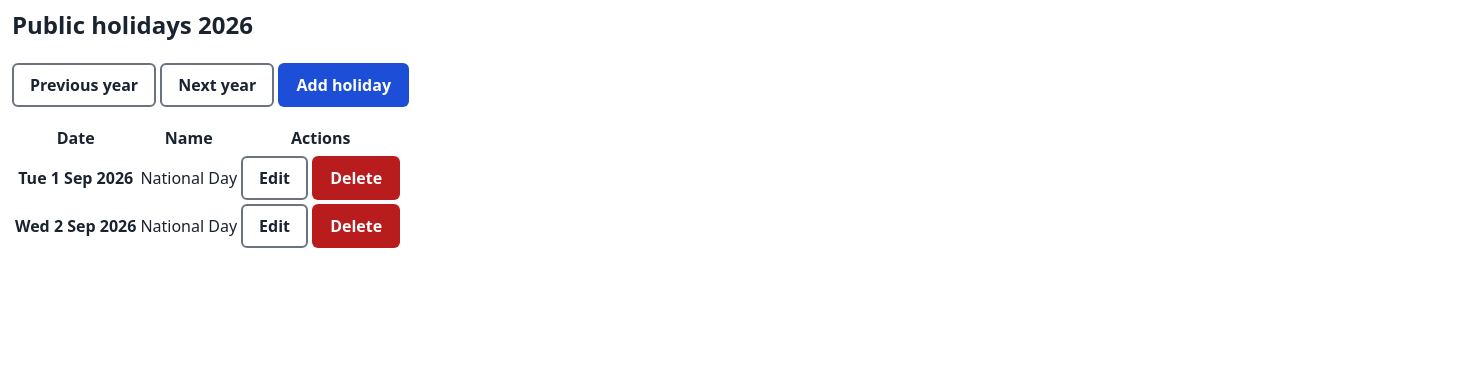
Test: HolidaysPage (R11) › counts the old and the new date while a holiday is edited
What coordinates should you click on to do the following:
click the button with aria-label "Edit National Day on Tue 1 Sep 2026"
I would click on:
 (275, 178)
Its box is x1=241 y1=156 x2=308 y2=200.
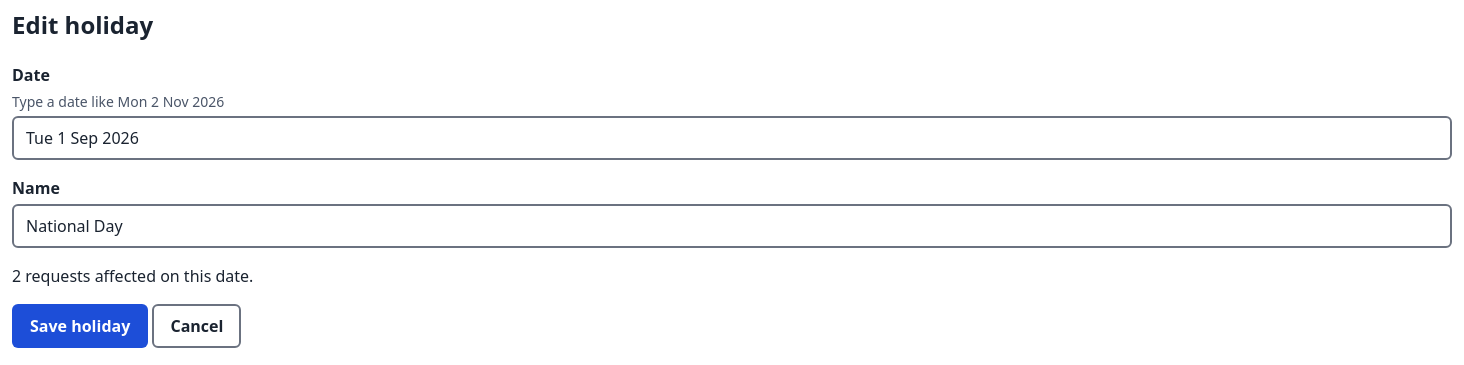
Expected: the text "2 requests affected on this date." is shown, x1=12 y1=265 x2=253 y2=287
